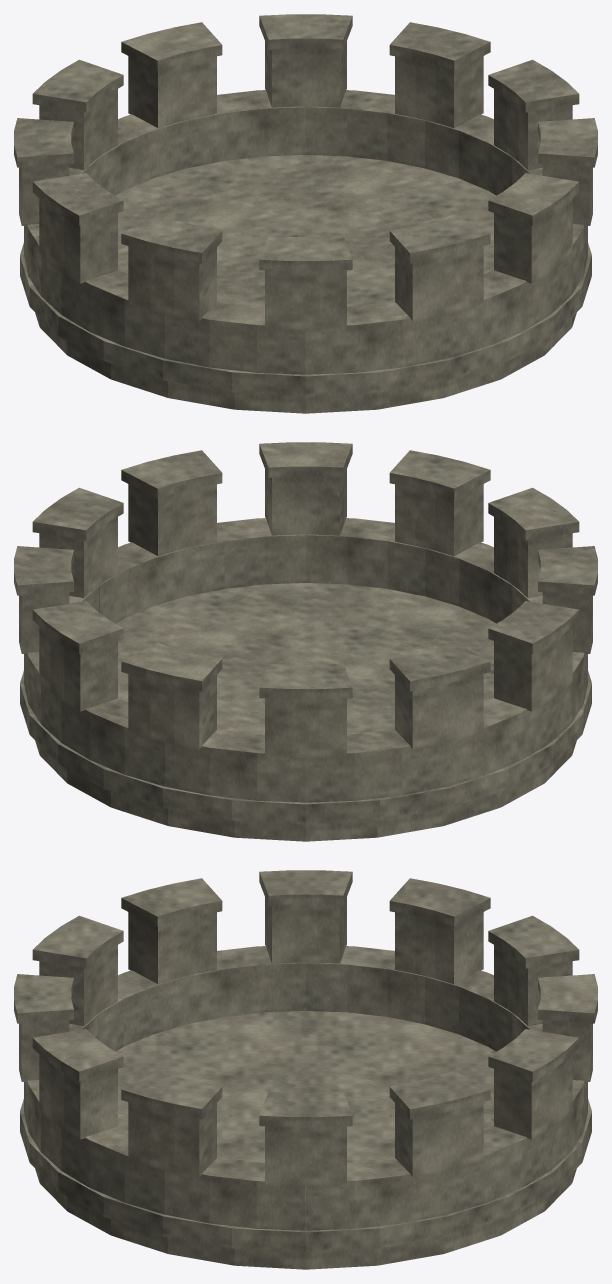
The model's file is round_tower_crown.glb.
3 views of the same model, one above another, from view 1: azimuth 30°, elevation 25°; view 2: azimuth 150°, elevation 25°; view 3: azimuth 270°, elevation 25° (orthographic).
Parts seen in each view (by area): view 1: Round Tower Crown; view 2: Round Tower Crown; view 3: Round Tower Crown.
Boxes of the visible parts, box(x1,y1,x2,y2) form: Round Tower Crown: box(14, 14, 597, 413); Round Tower Crown: box(14, 442, 597, 841); Round Tower Crown: box(14, 870, 597, 1269).
Bounding box in the file's own units: 5.59 × 1.68 × 5.59.
1 material, 1 textured.
